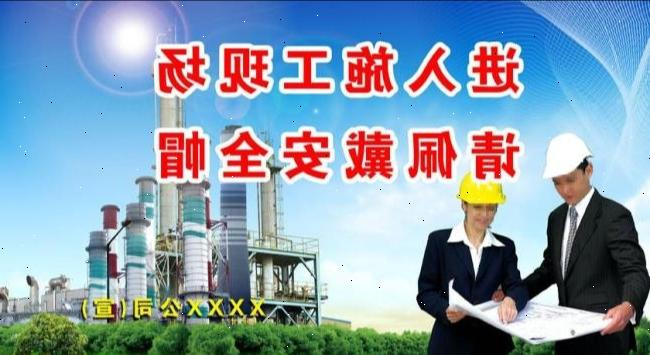helmet: (536, 131, 594, 183), (453, 169, 505, 207)
no_wear: (550, 206, 630, 352), (431, 236, 510, 354)
